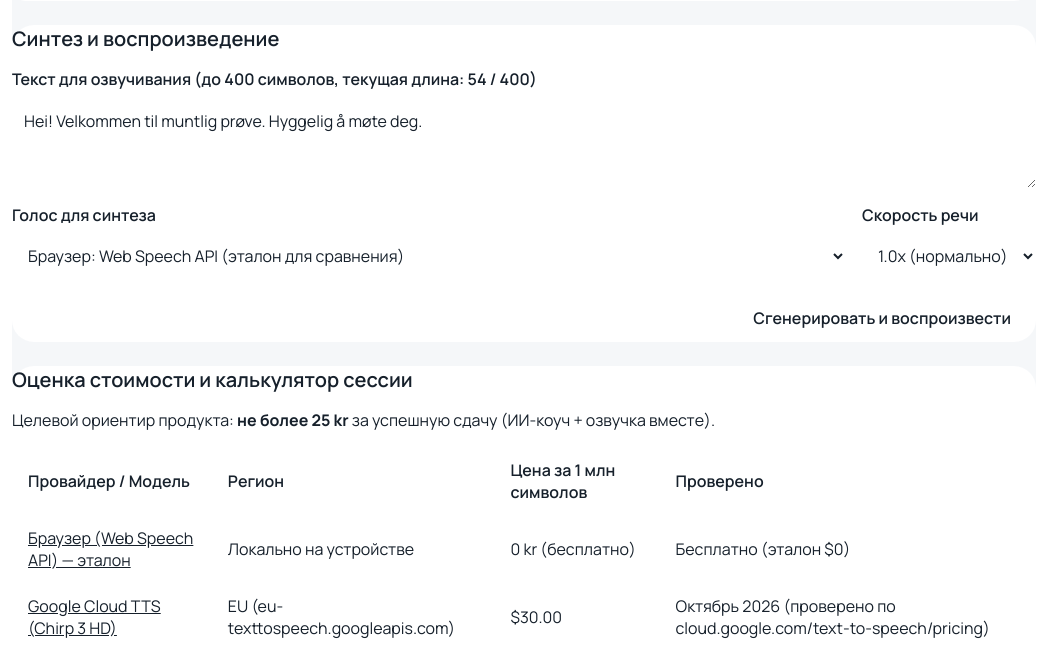
Test case: TTS Lab UI & Ratings (Issue #52) › synthesizes with browser speech and displays generated clip card with latency
(page scrolled)
Click the button "Сгенерировать и воспроизвести".
click(882, 318)  # box [728,294,1036,342]
(page scrolled)
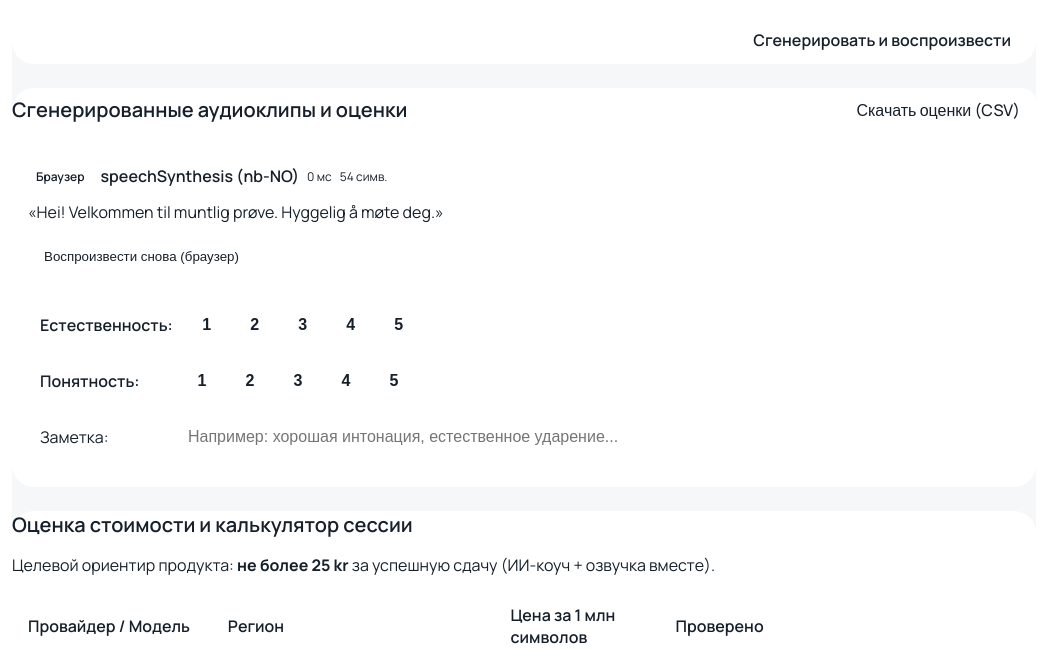
Check: the element with test id "ttsClipCard" is shown, box [12,148,1036,487]
Check: the element with test id "ttsClipCard" shows "Браузер", box [36,168,84,185]
